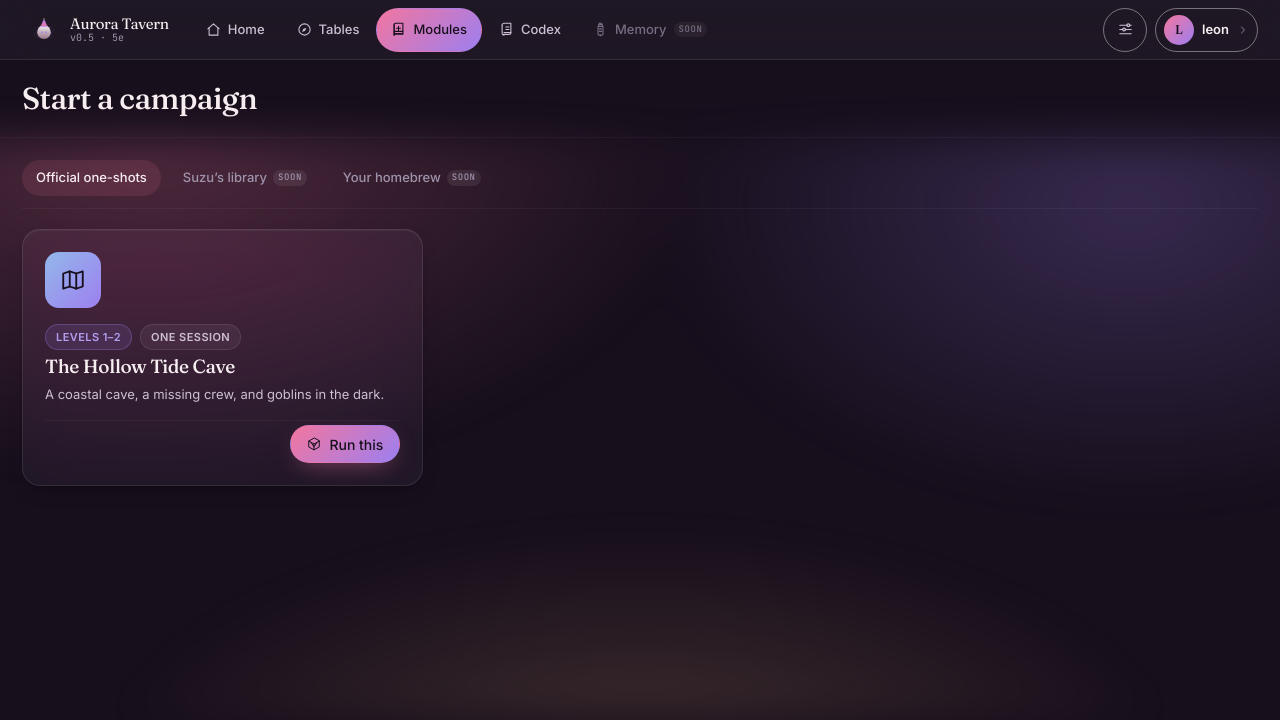
Test case: Begin with multiple characters shows a picker radiogroup
The width and height of the screenshot is (1280, 720).
Click the button "Run this": x=345, y=444 x1=290 y1=425 x2=400 y2=463
(page scrolled)
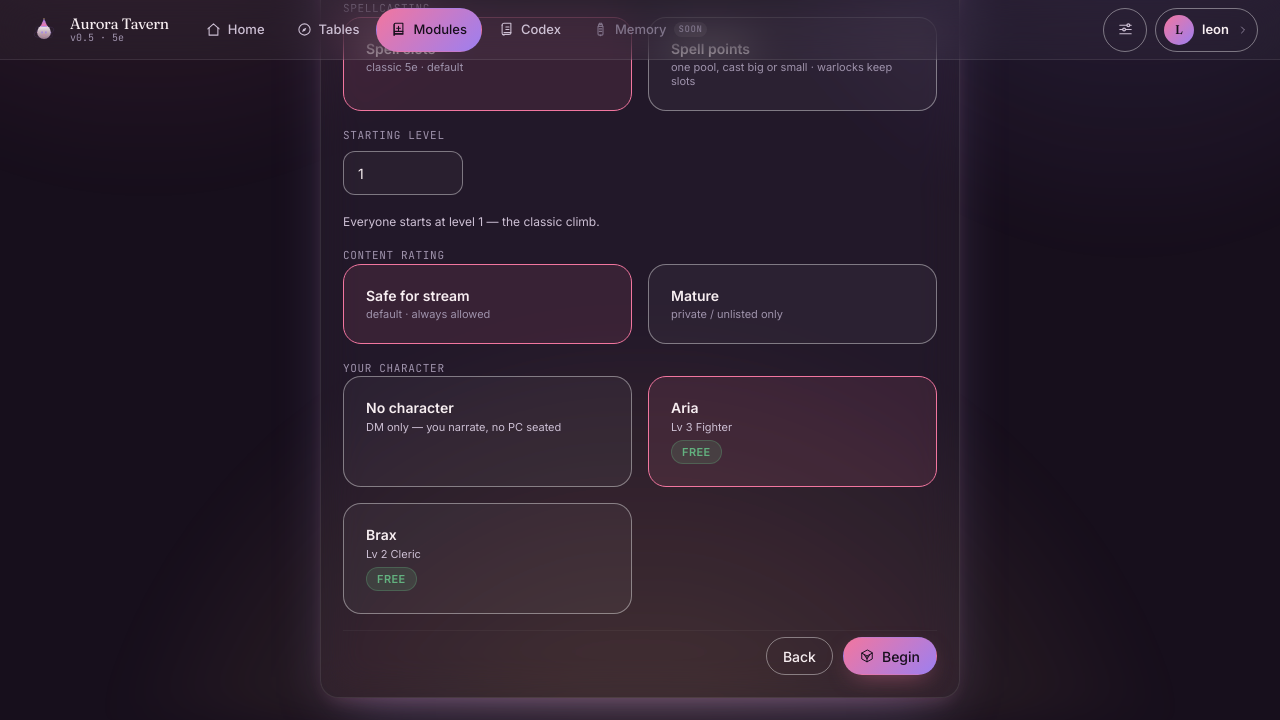
Check: the element named "your character" is shown, box x1=343 y1=376 x2=937 y2=614
Check: the radio button labelled "Aria Lv 3 Fighter Free" is shown, box x1=648 y1=376 x2=937 y2=487
Check: the radio button labelled "Brax Lv 2 Cleric Free" is shown, box x1=343 y1=503 x2=632 y2=614
